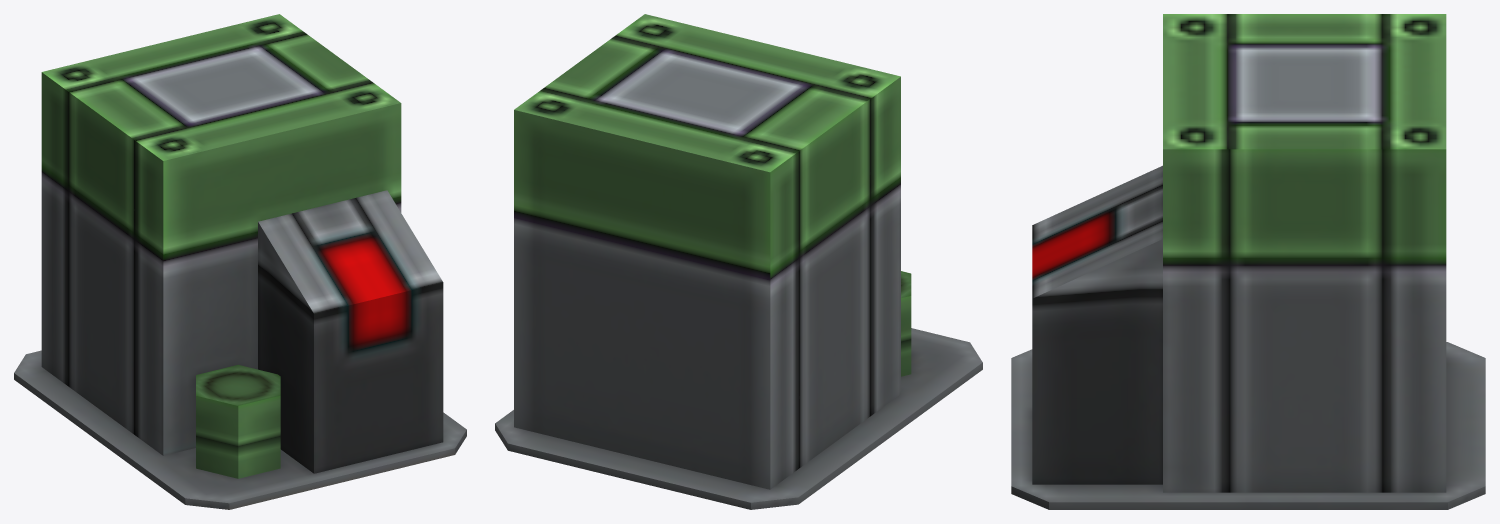
The model's file is russia_house_2.FBX.
3 renders of one model, left to right at view 1: azimuth 30°, elevation 25°; view 2: azimuth 150°, elevation 25°; view 3: azimuth 270°, elevation 25°, orthographic. The views are drawn at different scales.
Parts seen in each view (by area): view 1: russia_house_2; view 2: russia_house_2; view 3: russia_house_2.
Part boxes in pixels (bbox=[...]): russia_house_2: bbox=[14, 14, 466, 509]; russia_house_2: bbox=[495, 14, 982, 509]; russia_house_2: bbox=[1011, 14, 1485, 509].
Size of the model in its own units: 819 by 850 by 1025.
